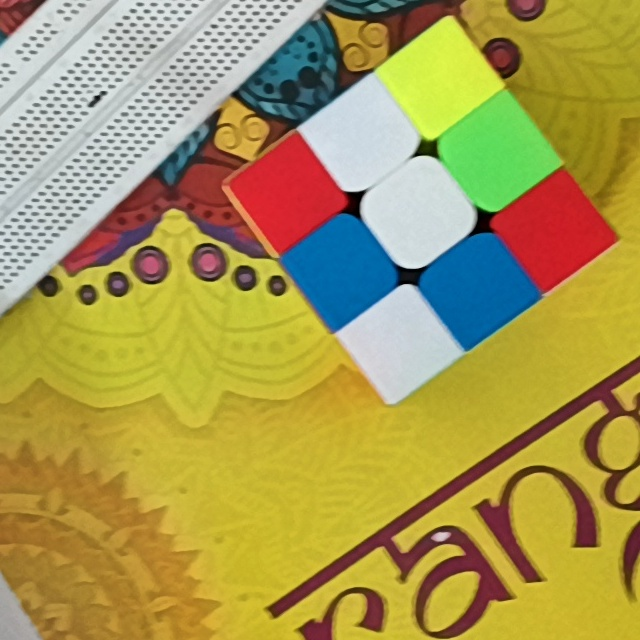tile: (311, 236, 374, 304), (443, 257, 514, 317), (467, 119, 533, 183), (408, 45, 474, 108), (363, 315, 432, 375), (385, 182, 450, 245), (327, 108, 394, 169), (521, 200, 585, 260), (257, 163, 320, 223)
